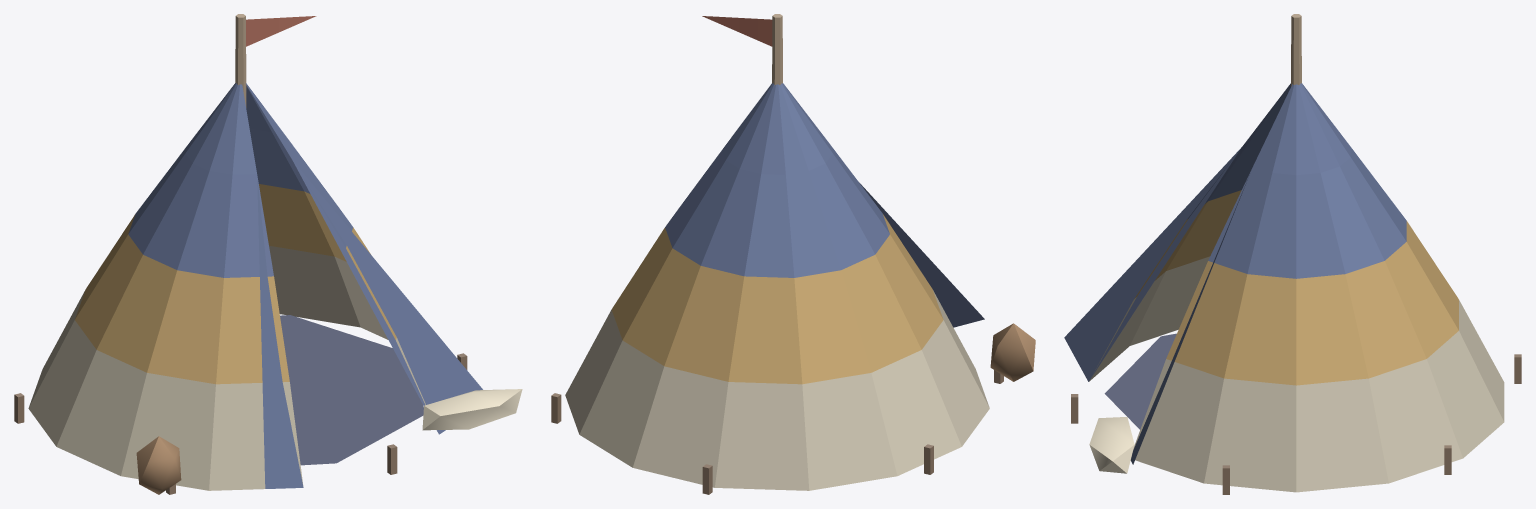
The model's file is tienda_b.glb.
3 views of the same model, side by side, from view 1: azimuth 30°, elevation 25°; view 2: azimuth 150°, elevation 25°; view 3: azimuth 270°, elevation 25° (orthographic).
Visible parts, largest first — view 1: tienda_b_tela, tienda_b; view 2: tienda_b_tela, tienda_b; view 3: tienda_b_tela, tienda_b.
Part boxes in pixels (x1,y1,x2,y2): tienda_b_tela: [28, 16, 482, 490]; tienda_b: [14, 14, 522, 494]; tienda_b_tela: [565, 16, 989, 490]; tienda_b: [551, 14, 1035, 494]; tienda_b_tela: [1064, 83, 1504, 492]; tienda_b: [1071, 14, 1521, 494].
Size of the model in its own units: 2.98 by 3.05 by 3.11.
